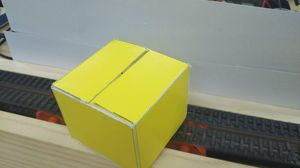box4: (49, 39, 189, 168)
